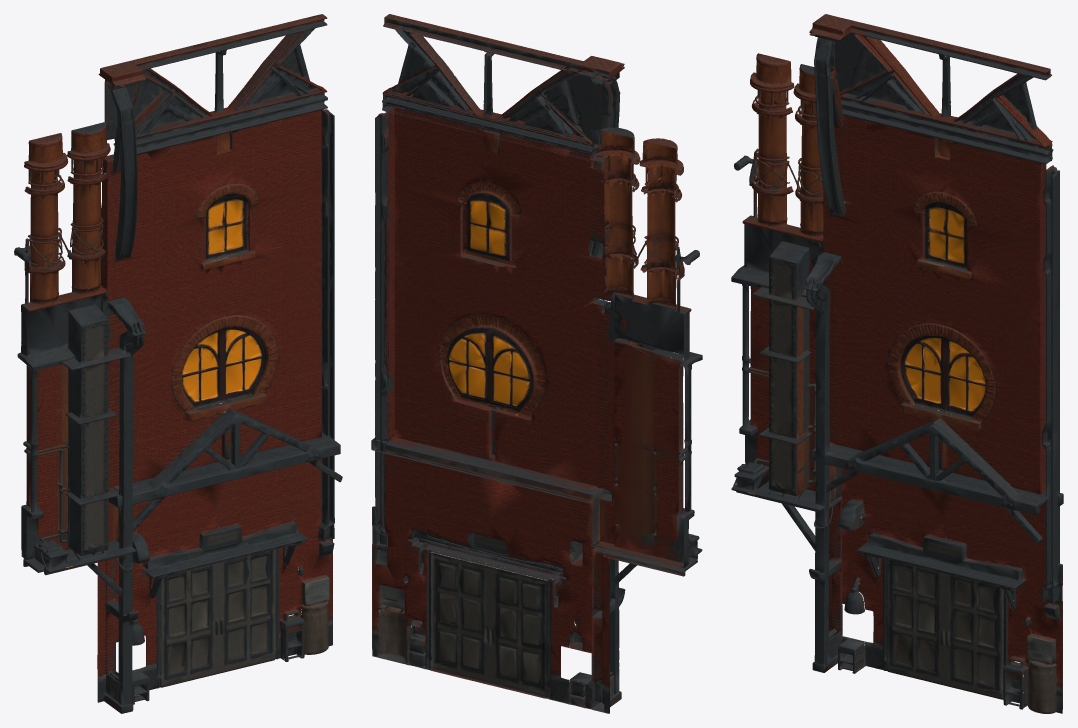
File: foundry_block.glb
3 views of the same model, side by side, from view 1: azimuth 30°, elevation 25°; view 2: azimuth 150°, elevation 25°; view 3: azimuth 330°, elevation 25° (orthographic).
Bounding box in the file's own units: 0.9952 × 1.9 × 0.1694.
1 material, 1 textured.
